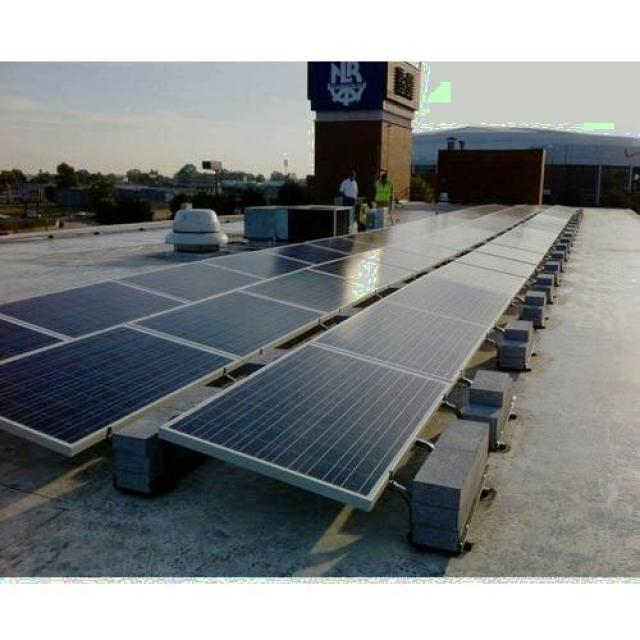no faulty: (165, 342, 461, 504), (2, 326, 225, 468), (314, 299, 496, 382), (134, 289, 320, 347), (4, 280, 174, 332), (379, 270, 520, 324), (247, 265, 371, 314), (128, 258, 265, 300)
